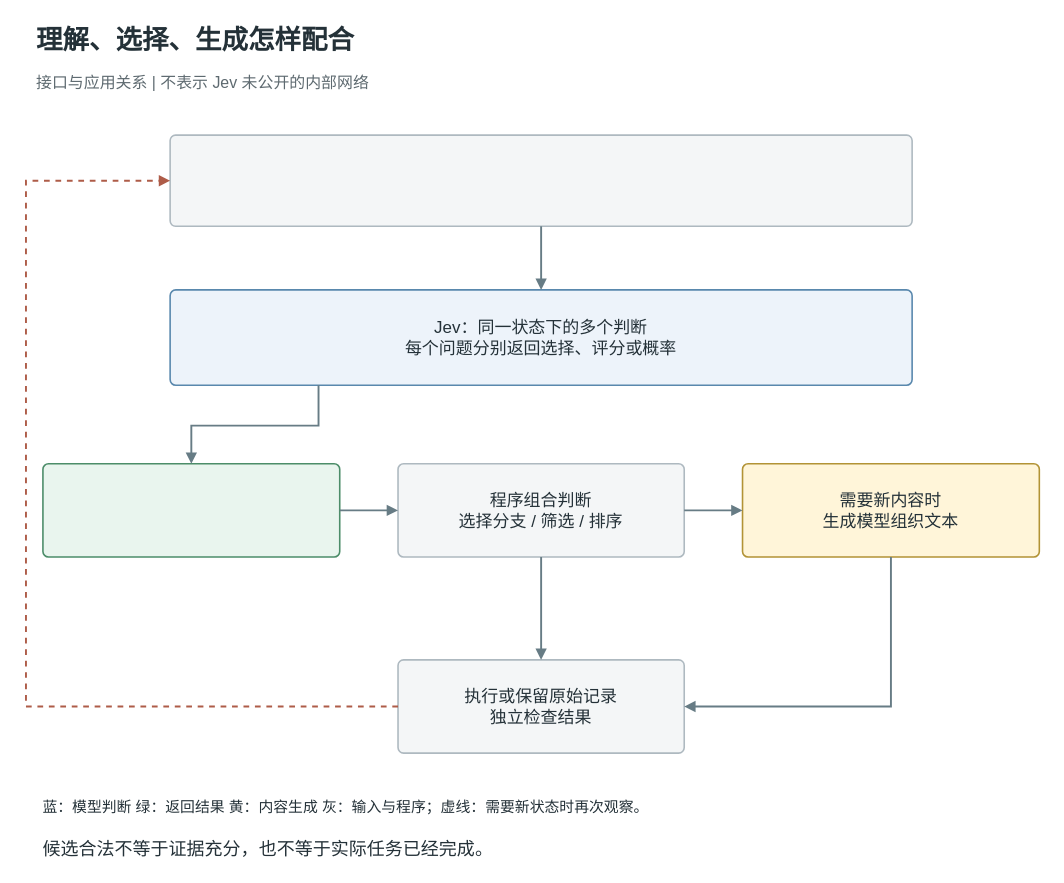
This 1064x883 diagram has some shape labels left out. The centre of each missing label's shape, as x and y in pixels:
"当前状态 + 本次问题 用户目标 / 原文或页面观察 / 规则 / 动态候选" belongs at point (540, 180).
"有边界结果 选项 ID / 等级 / 候选分布" belongs at point (191, 509).
